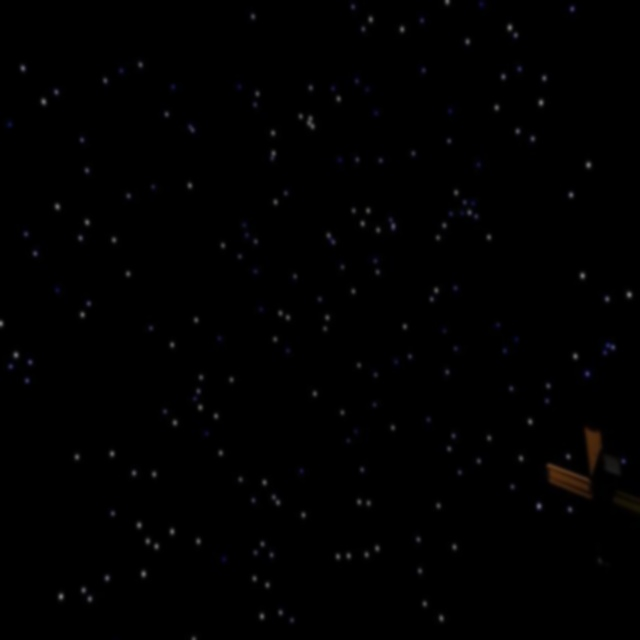satellite: (535, 415, 640, 556)
